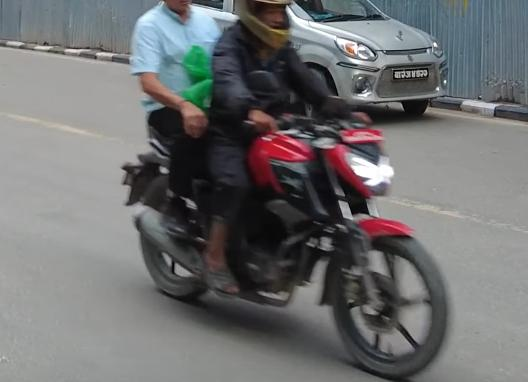bike: (115, 69, 455, 382)
